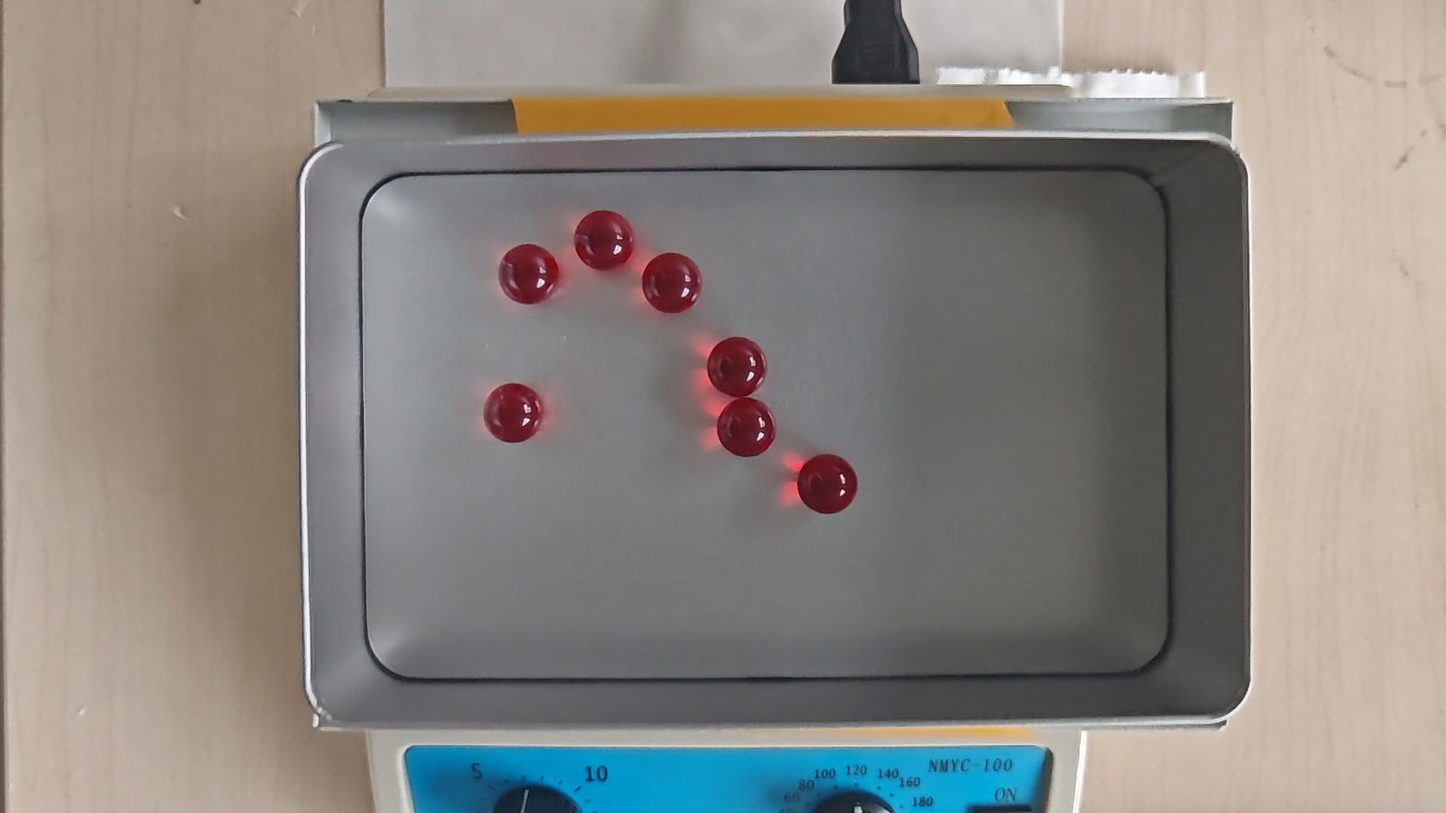ball: (572, 209, 636, 272), (796, 452, 859, 516), (497, 243, 560, 306), (640, 253, 704, 315), (707, 336, 769, 399), (482, 382, 545, 443), (717, 397, 776, 459)
container: (361, 167, 1172, 678)
